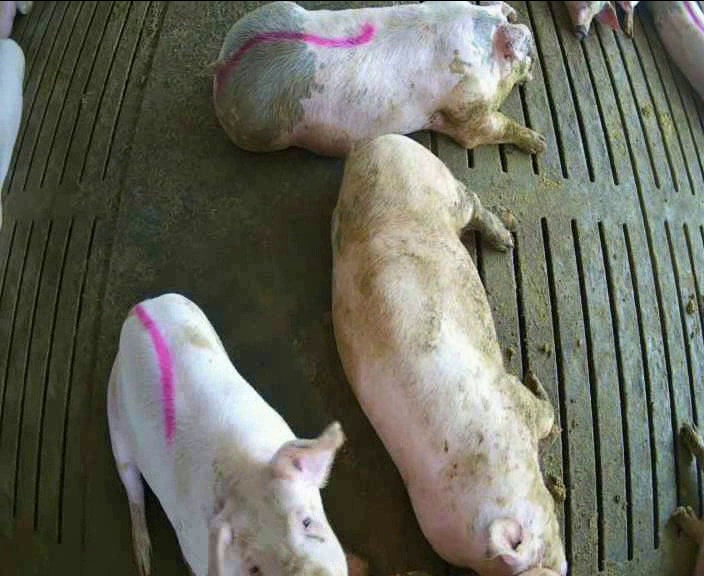pig: (333, 134, 564, 573), (108, 293, 367, 574), (214, 2, 544, 155)
